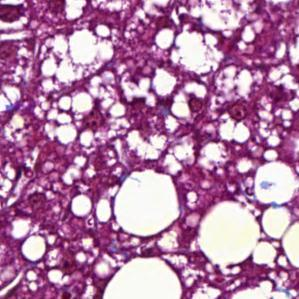steatosis: (105, 258, 181, 299)
